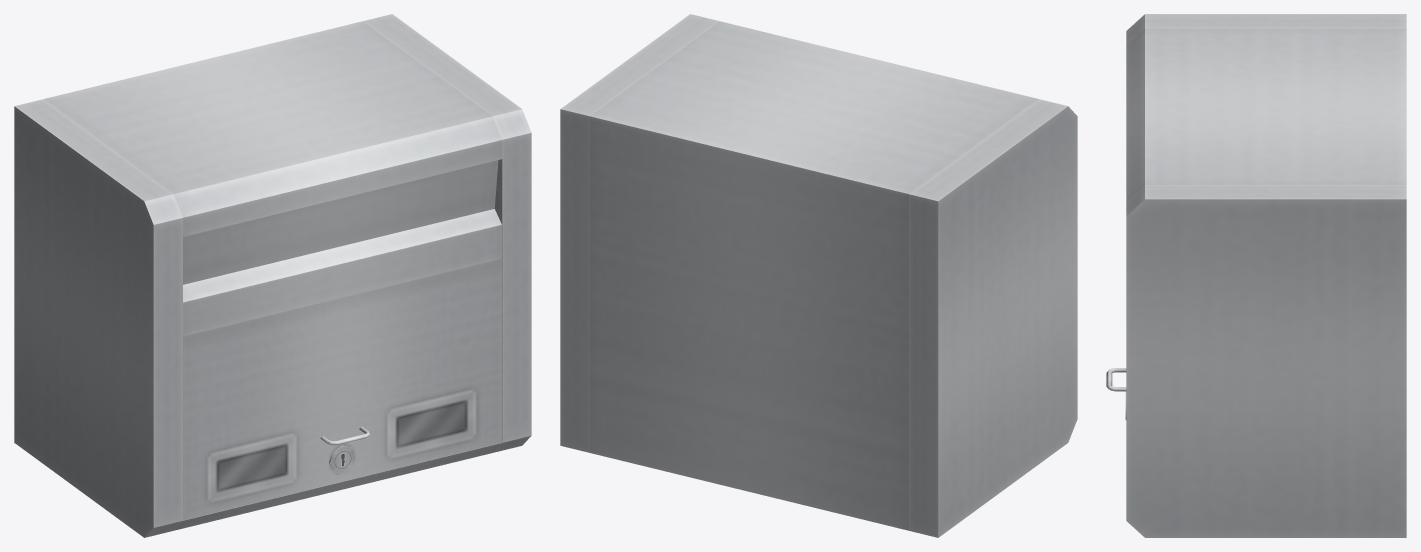
Rendered from set_mailbox.fbx.
3 renders of one model, left to right at view 1: azimuth 30°, elevation 25°; view 2: azimuth 150°, elevation 25°; view 3: azimuth 270°, elevation 25°, orthographic.
Visible parts, largest first — view 1: mailbox_body, receipt_mouth, mailing_mouth_lid; view 2: mailbox_body; view 3: mailbox_body.
Boxes of the visible parts, x1=… form: mailbox_body: x1=14, y1=14, x2=531, y2=537; receipt_mouth: x1=183, y1=259, x2=501, y2=520; mailing_mouth_lid: x1=183, y1=160, x2=498, y2=284; mailbox_body: x1=560, y1=14, x2=1077, y2=537; mailbox_body: x1=1126, y1=14, x2=1406, y2=537.
Bounding box in the file's own units: 44.01 × 37.46 × 30.11.
